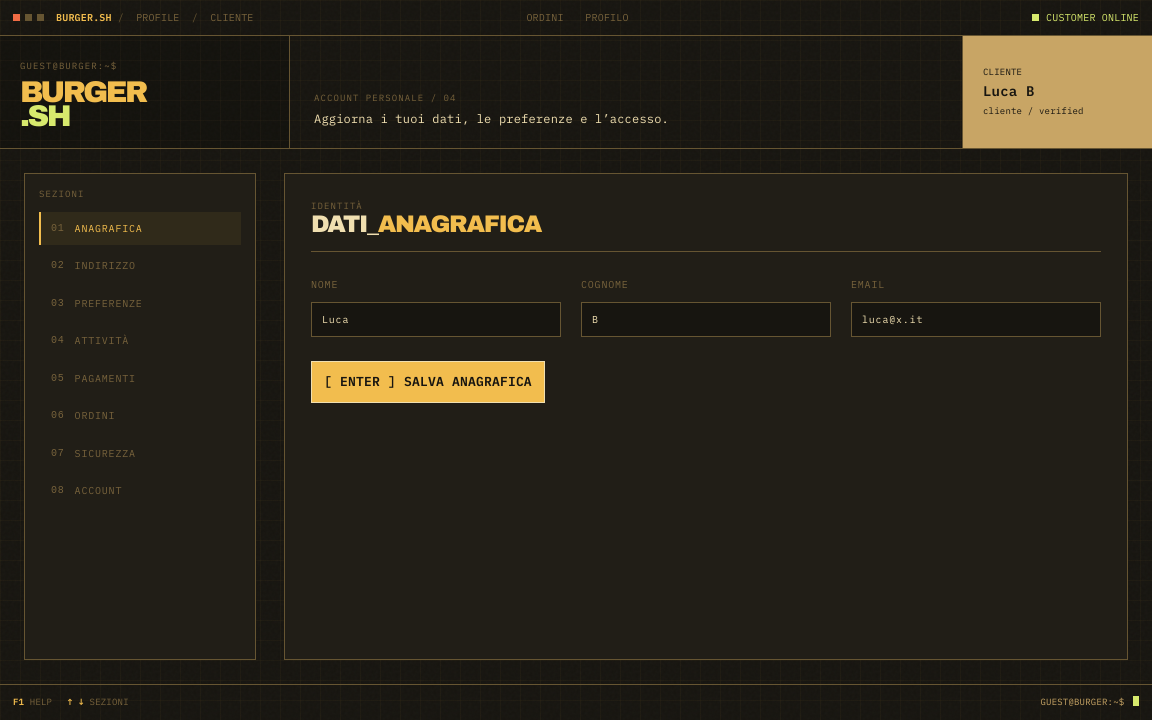
Test: ProfilePage › non salva la password quando la conferma non coincide
The image size is (1152, 720).
Click the tab "07 sicurezza". click: (140, 453)
box: [39,437,241,470]
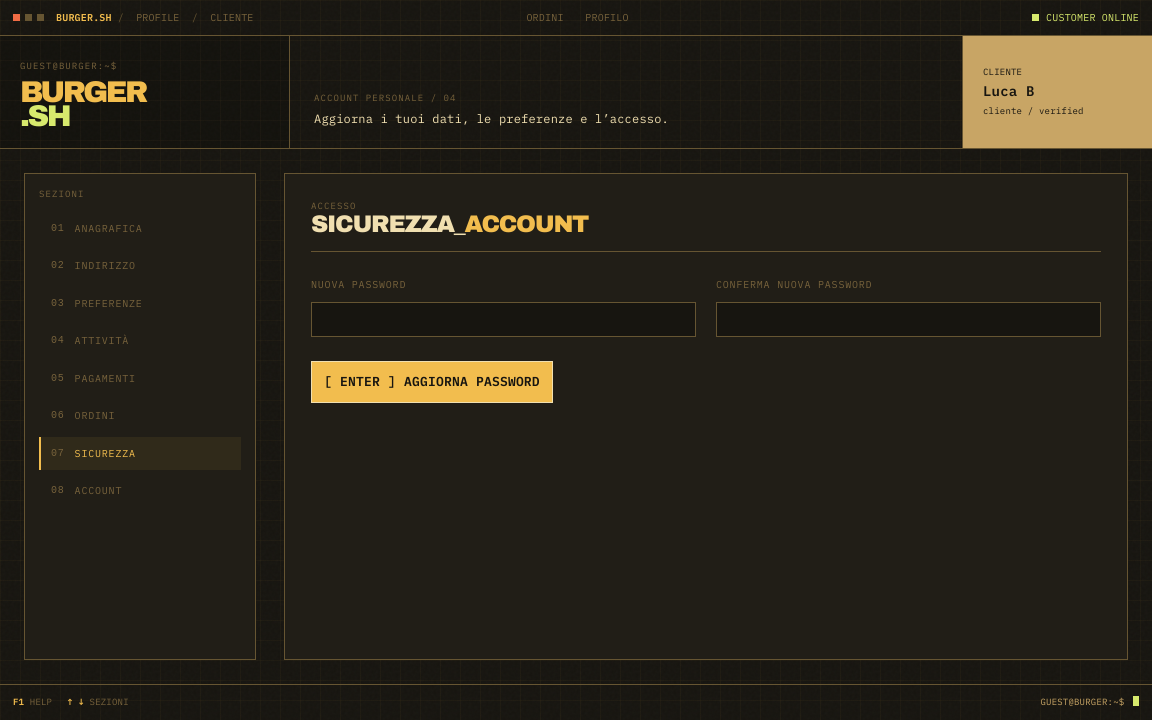
Type "segreta" into the password field labelled "nuova password". click: (504, 320)
box: [311,302,696,337]
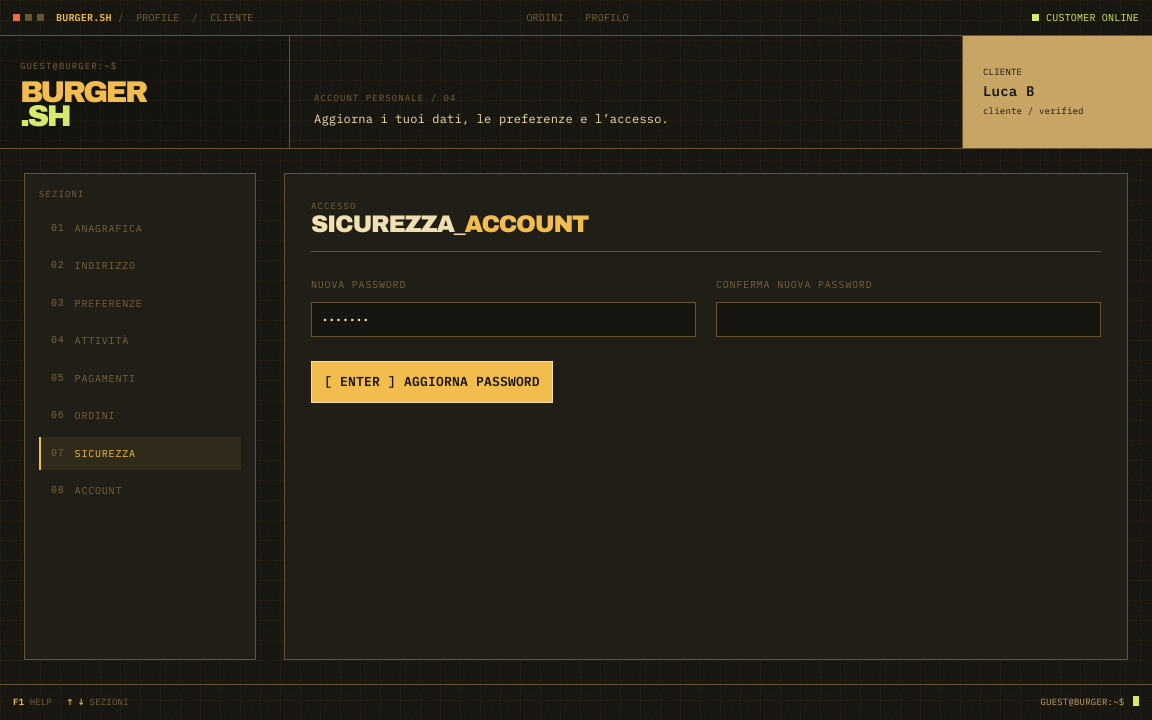
Type "diversa" into the password field labelled "conferma nuova password". click: (908, 320)
box: [716,302,1101,337]
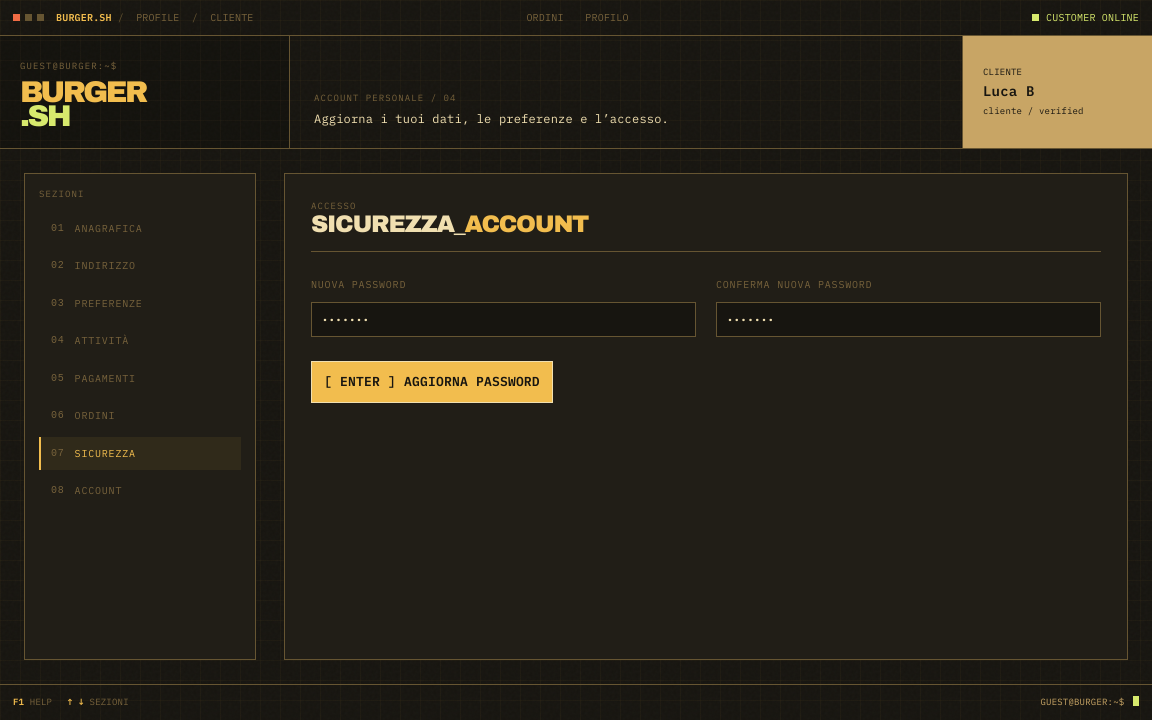
Click the button "[ enter ] aggiorna password". click: (432, 382)
box: [311,361,553,403]
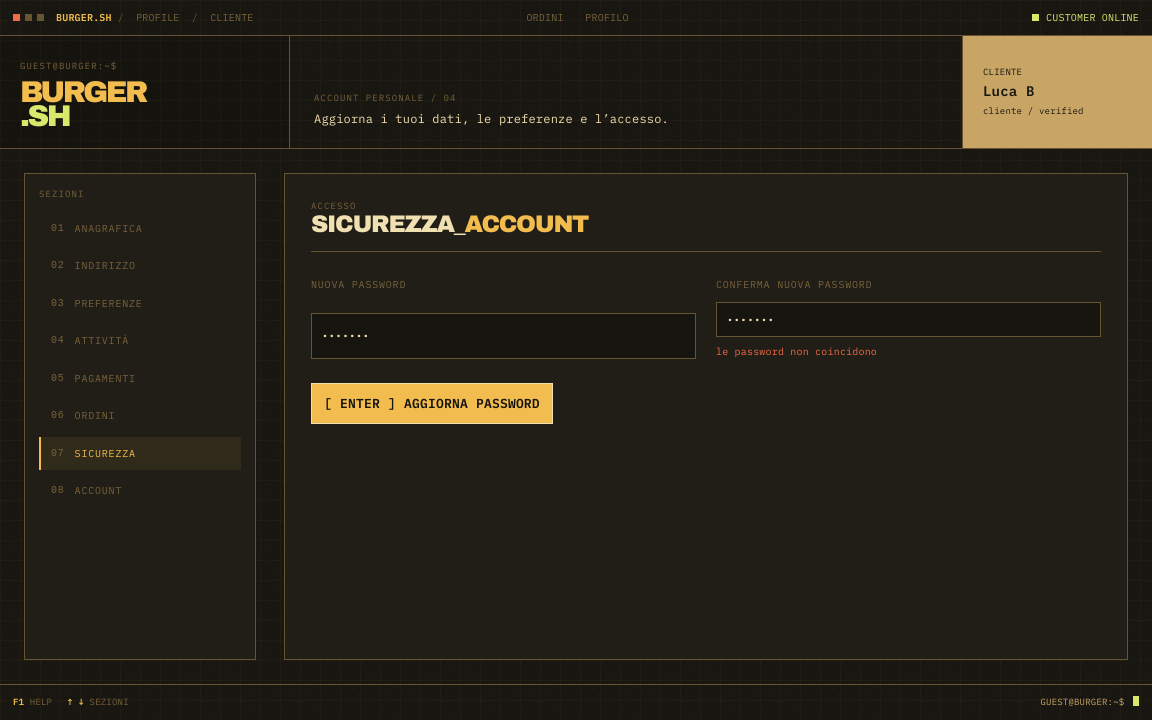
Result: the text "le password non coincidono" is shown at [716,345,877,358]
